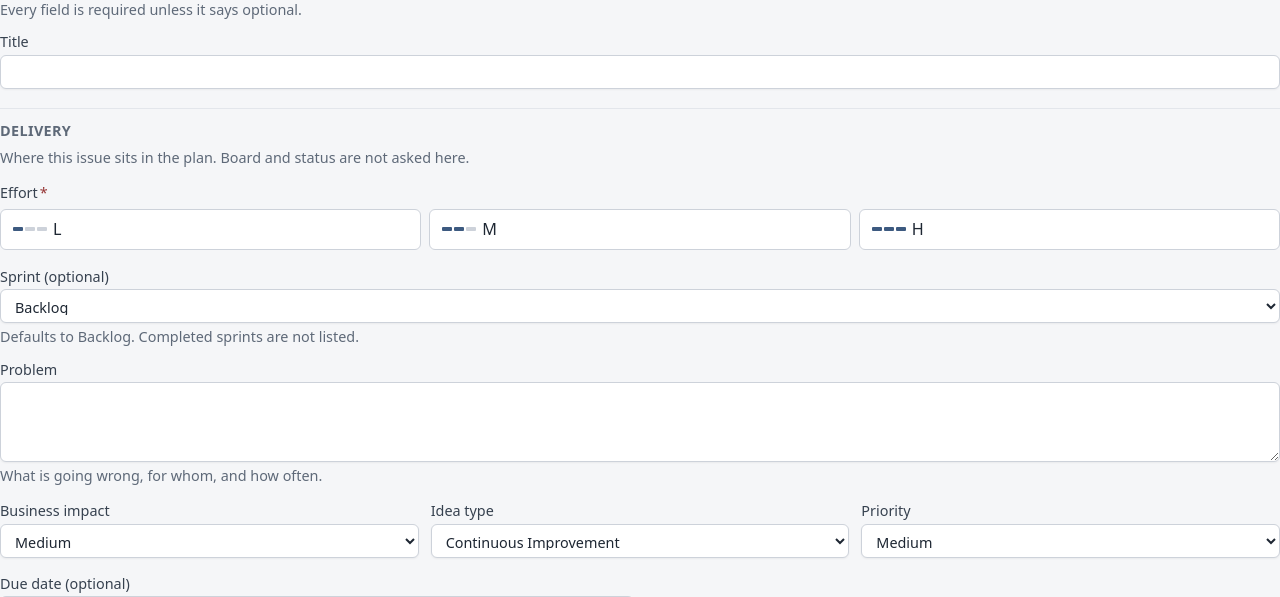
Test: IdeaForm adding an Issue › puts the API’s effort and sprint errors beside their controls, not in the top alert
The image size is (1280, 597).
Type "Fix the dock door" into the field labelled "Title" at (640, 72), box [0,55,1279,89]
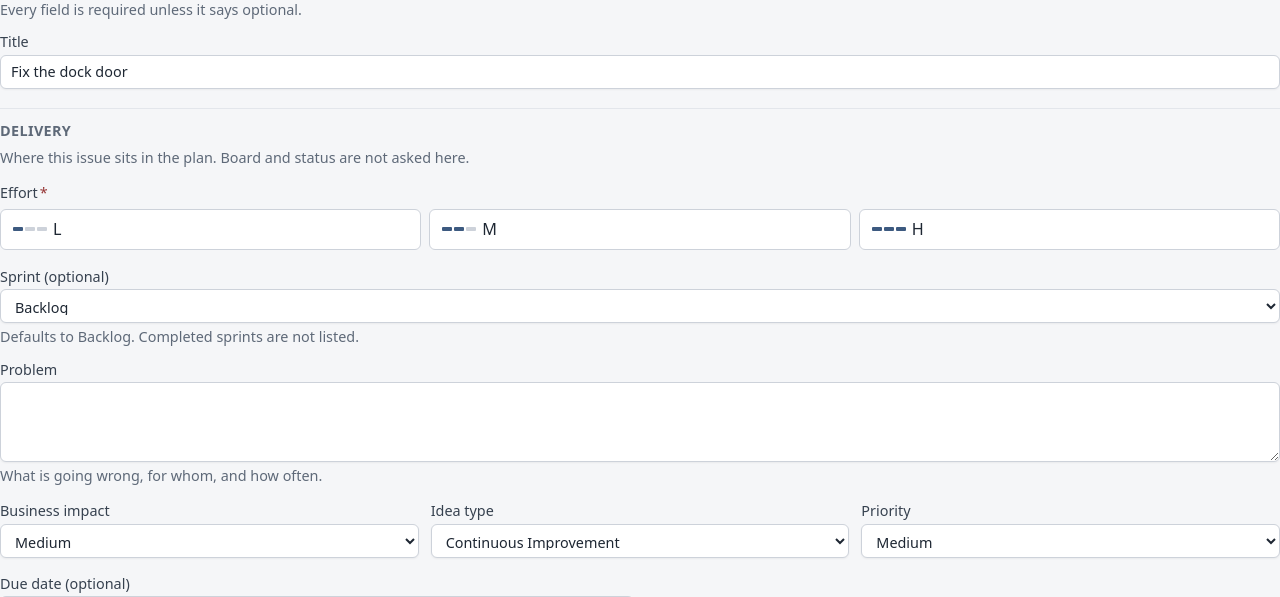
Type "It jams." into the text box labelled "Problem" at (640, 422), box [0,382,1279,462]
(page scrolled)
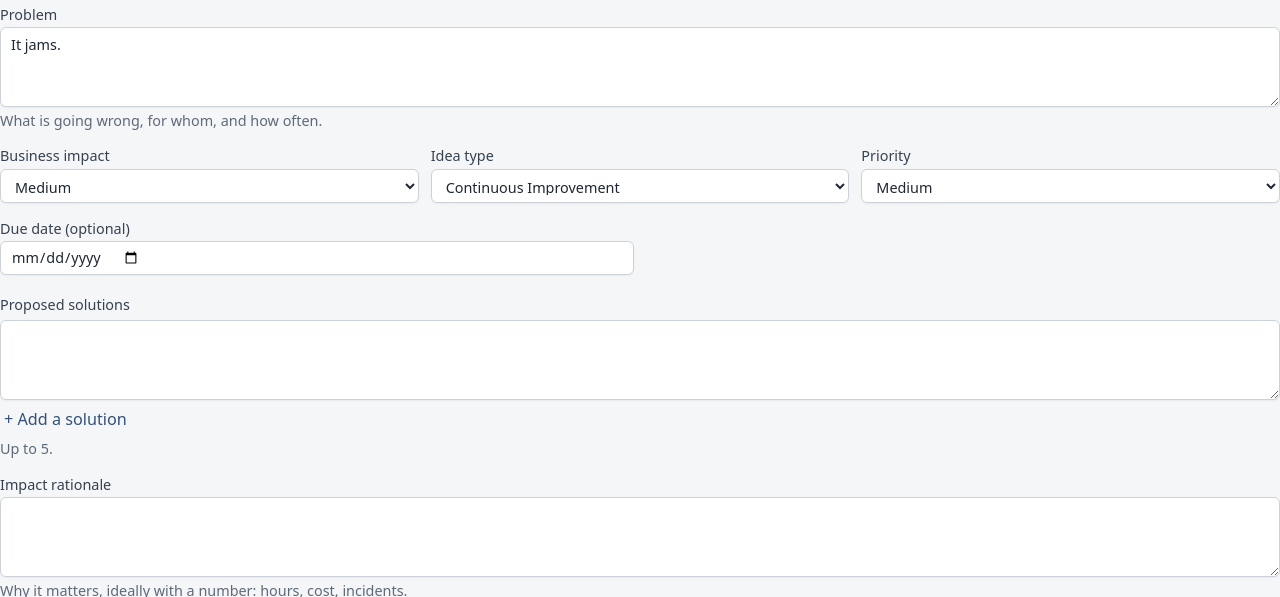
Type "New track" into the text box named "Solution 1" at (640, 360), box [0,320,1279,400]
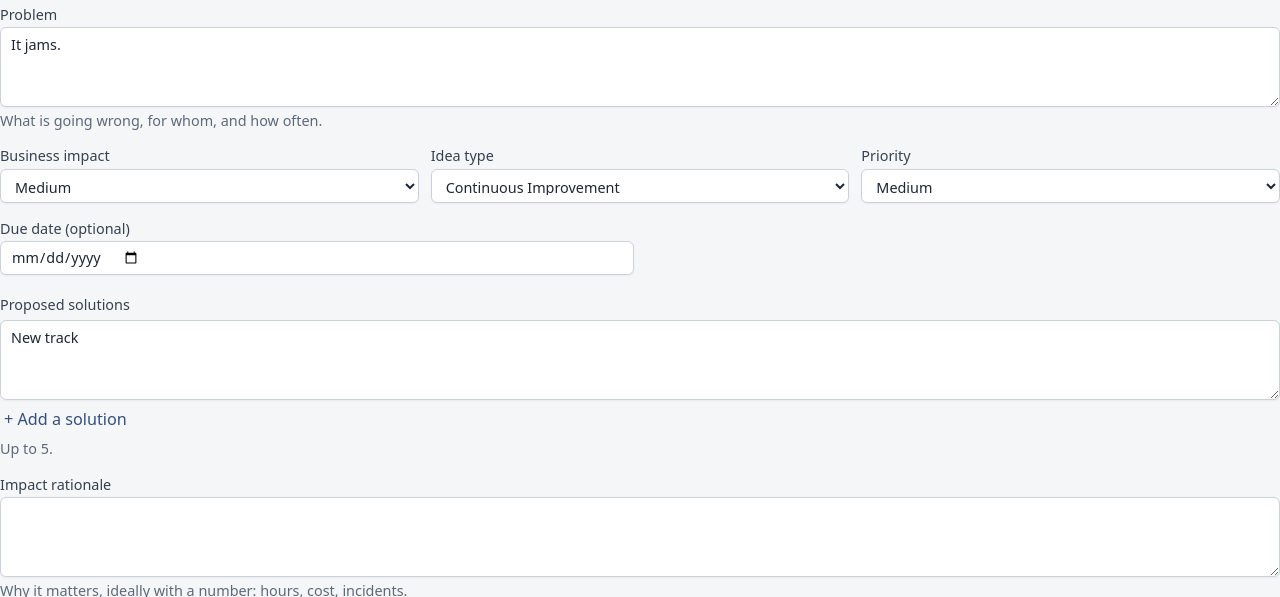
Type "Hours." into the text box labelled "Impact rationale" at (640, 537), box [0,497,1279,577]
(page scrolled)
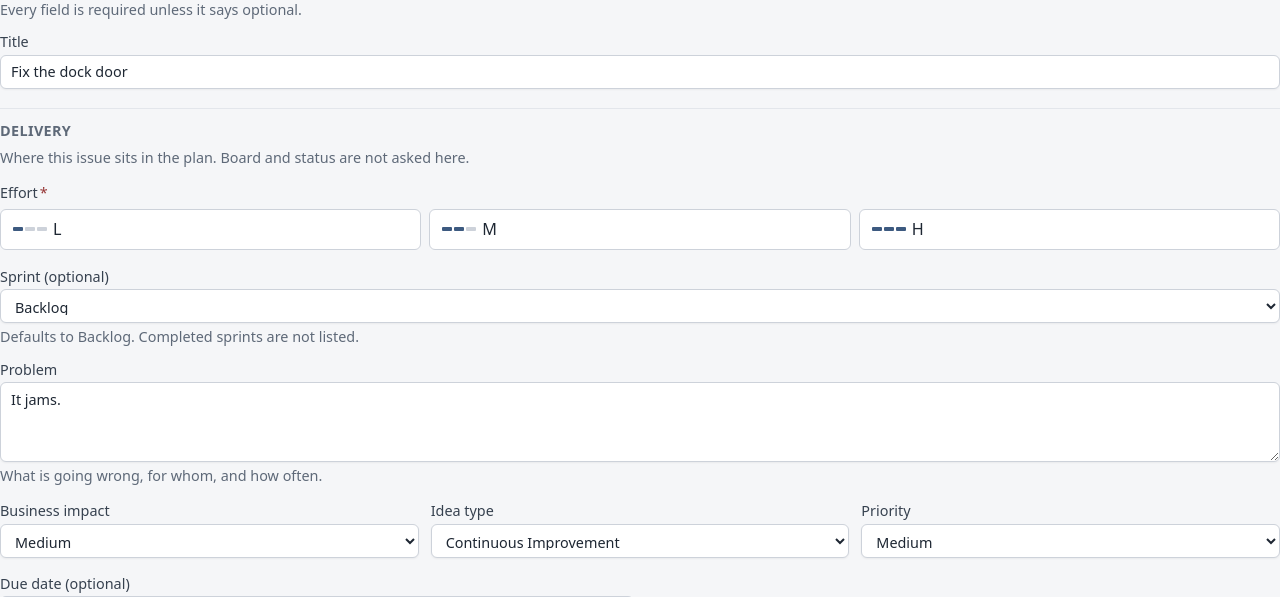
Click the radio button named "Low effort" at (27, 240), box [0,209,421,250]
(page scrolled)
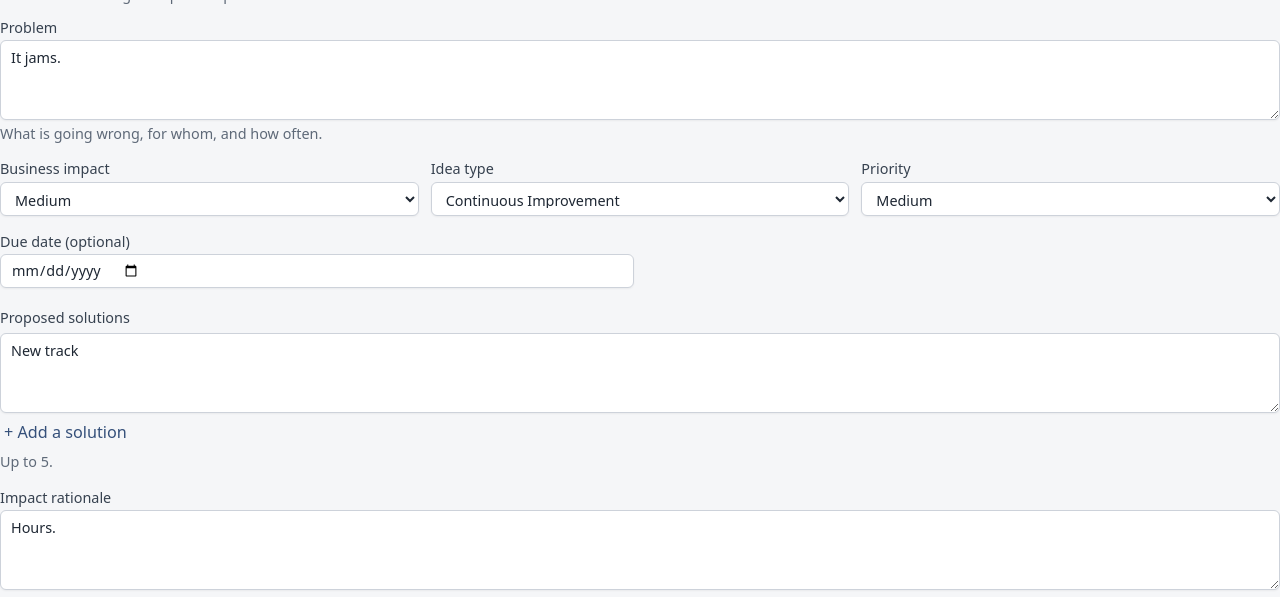
Submit the form
(page scrolled)
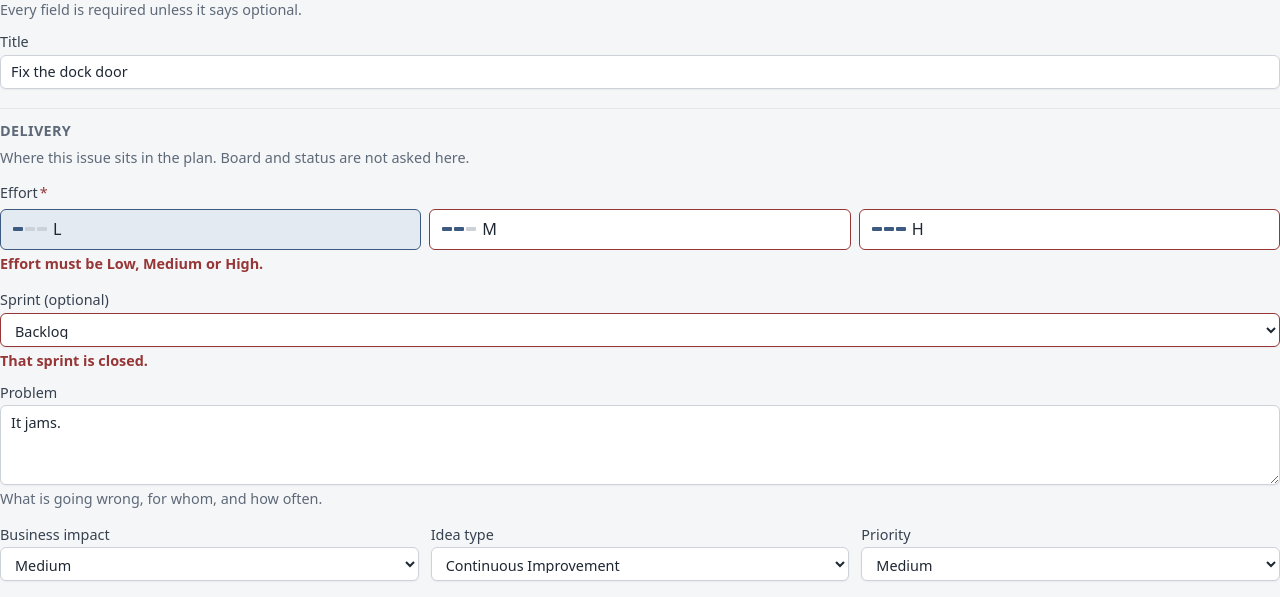
Check: the text "That sprint is closed." is shown, box [0,350,148,370]
Check: the text "Effort must be Low, Medium or High." is shown, box [0,254,263,273]
